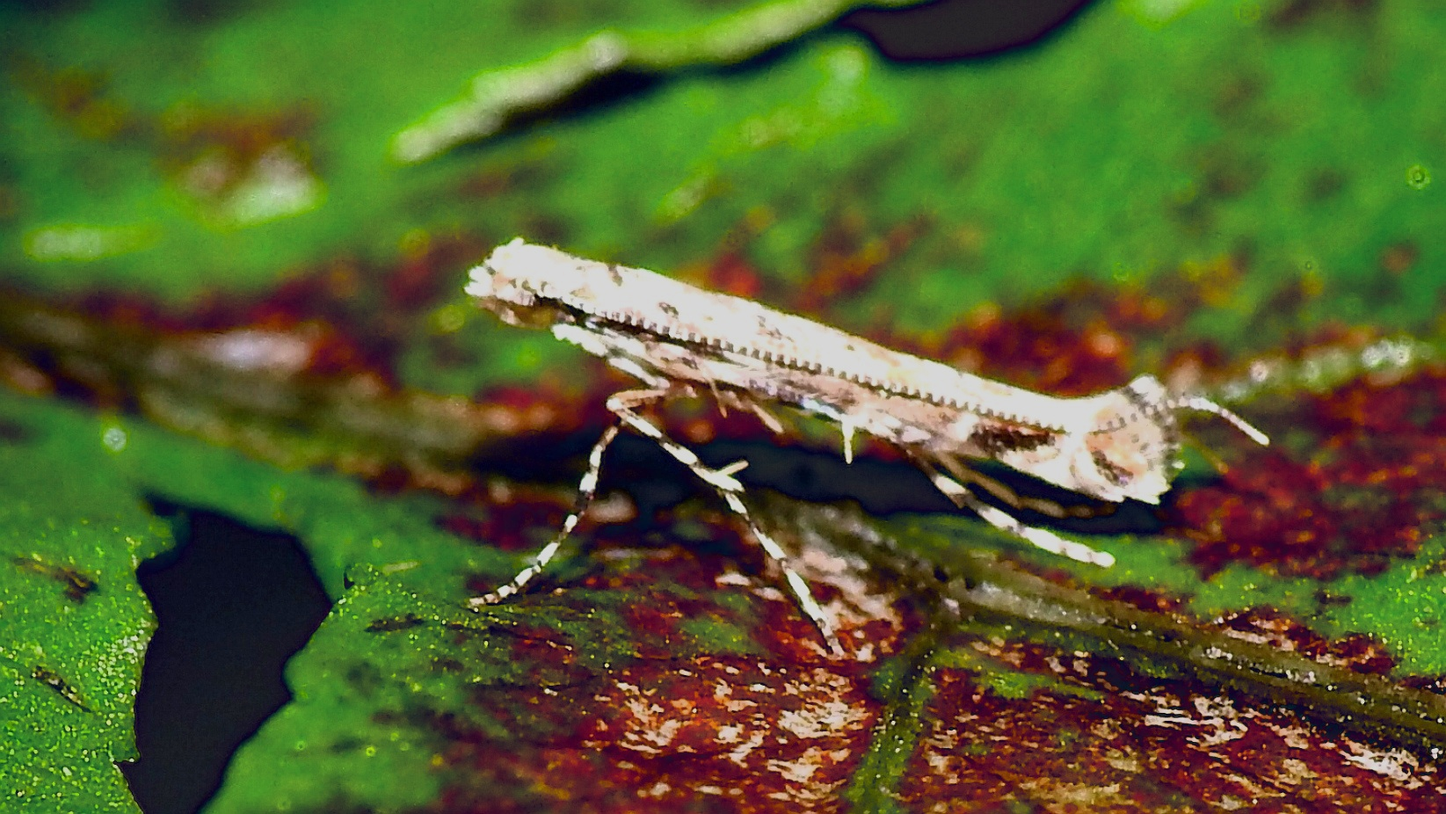Stink_Bug: (496, 240, 1181, 526)
